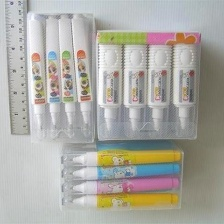correction_fluid: (119, 31, 150, 140), (143, 32, 173, 140), (68, 13, 94, 137), (171, 30, 200, 139), (96, 30, 123, 140), (55, 13, 78, 138), (26, 12, 48, 142), (59, 173, 181, 196), (42, 15, 63, 139), (60, 160, 181, 181), (60, 148, 183, 167), (59, 191, 180, 210), (61, 140, 177, 154)
plastic_box: (93, 27, 203, 143), (56, 138, 186, 214)
